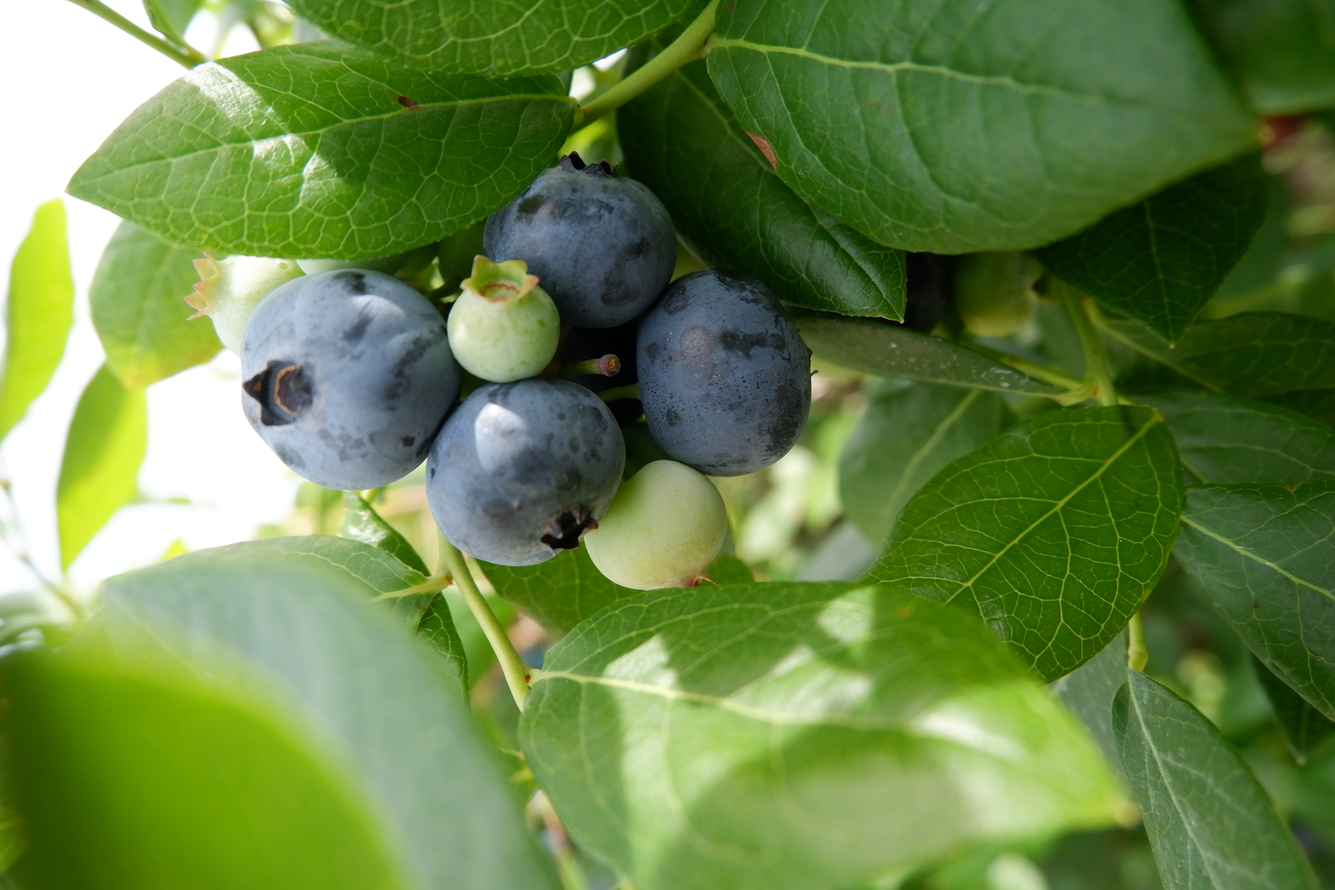Immature: (587, 462, 726, 588), (447, 262, 558, 378), (191, 258, 298, 346)
Mature: (240, 272, 451, 482), (428, 381, 623, 560), (638, 276, 810, 473), (485, 163, 672, 326)
